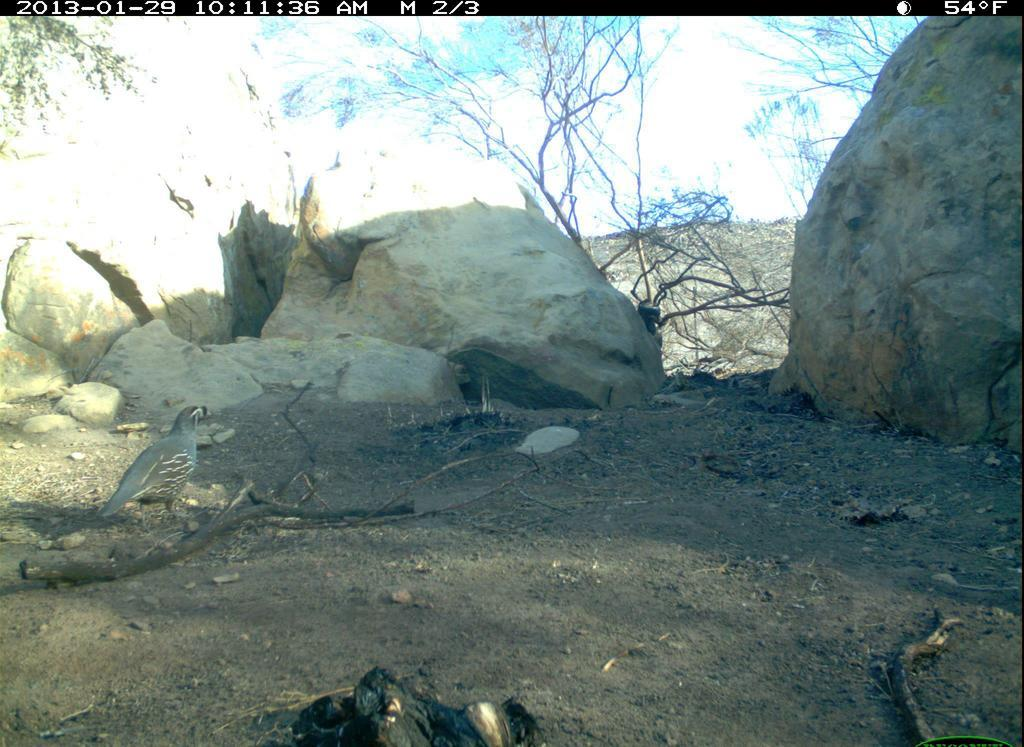bird: (97, 400, 213, 528)
